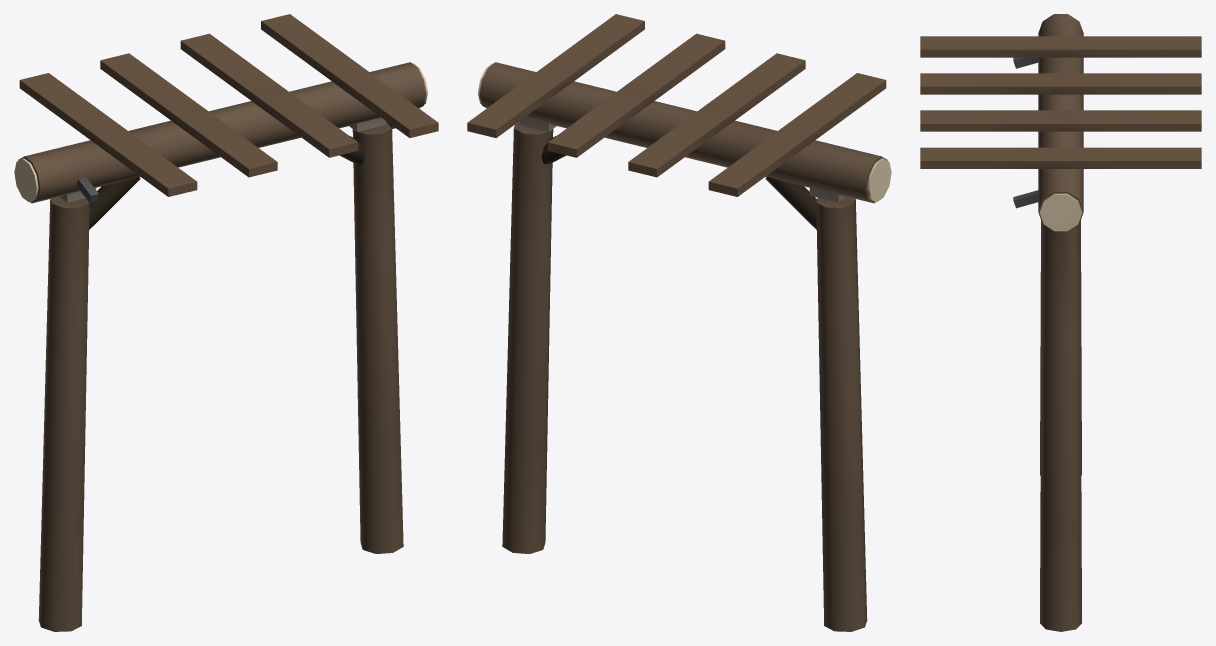
The model's file is mine_frame.glb.
The picture shows the model from 3 angles, left to right: view 1: azimuth 30°, elevation 25°; view 2: azimuth 150°, elevation 25°; view 3: azimuth 270°, elevation 25°; orthographic projection. The views are drawn at different scales.
Parts seen in each view (by area): view 1: mine_frame; view 2: mine_frame; view 3: mine_frame.
Boxes of the visible parts, x1,y1,x2,y2 form: mine_frame: (14,14,438,631); mine_frame: (467,14,891,631); mine_frame: (920,14,1201,631).
Bounding box in the file's own units: 2.43 × 2.86 × 1.6.
